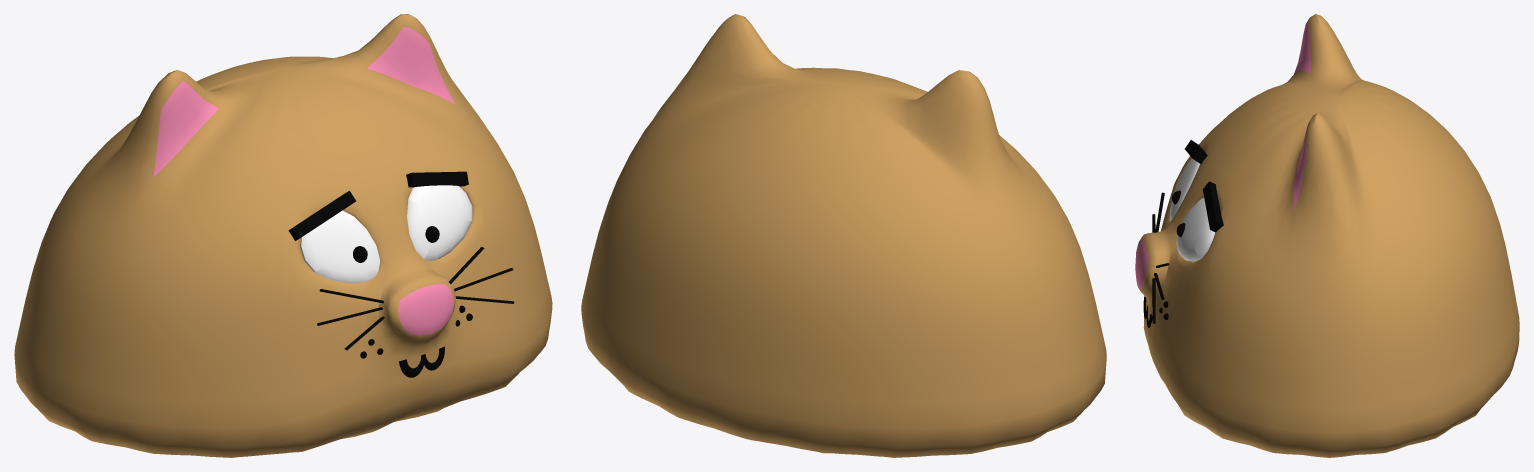
File: Cat.fbx
3 views of the same model, side by side, from view 1: azimuth 30°, elevation 25°; view 2: azimuth 150°, elevation 25°; view 3: azimuth 270°, elevation 25° (orthographic). The views are drawn at different scales.
Visible parts, largest first — view 1: Sphere_2_2, Cube, Cube_1; view 2: Sphere_2_2; view 3: Sphere_2_2, Cube_1.
Boxes of the visible parts, x1,y1,x2,y2 form: Sphere_2_2: [14, 14, 552, 457]; Cube: [288, 191, 356, 240]; Cube_1: [406, 171, 468, 187]; Sphere_2_2: [581, 14, 1106, 457]; Sphere_2_2: [1135, 14, 1519, 457]; Cube_1: [1202, 181, 1223, 232].
Size of the model in its own units: 159 by 109 by 120.
